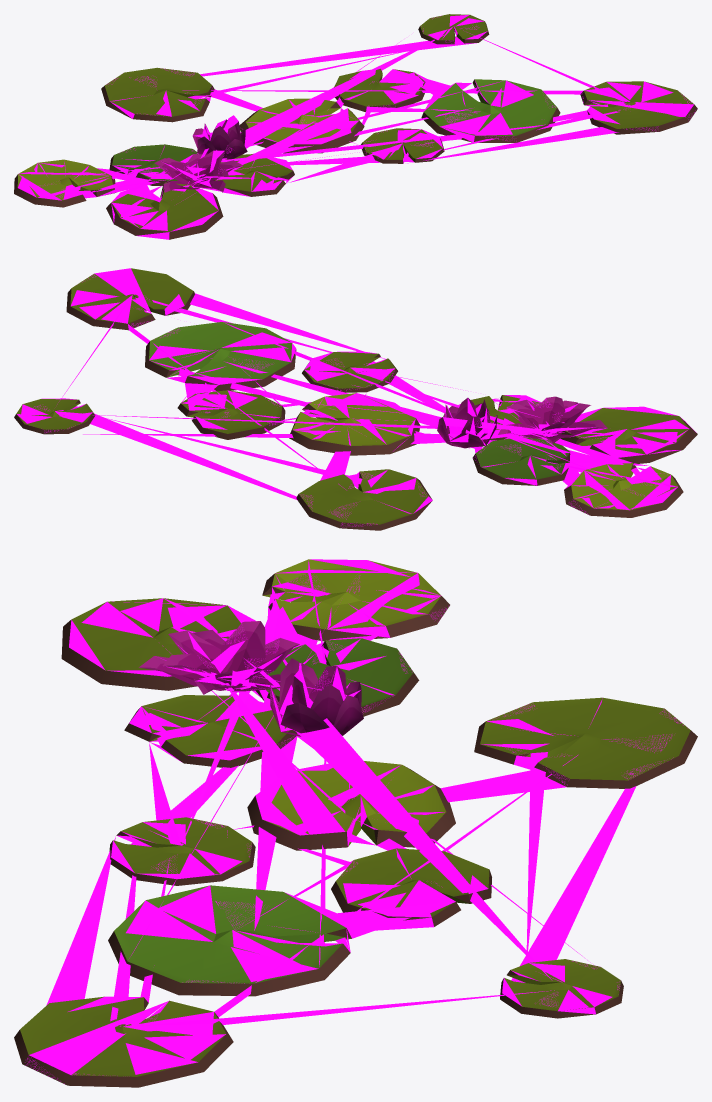
The model's file is SM_Env_Lillies_02.glb.
3 views of the same model, one above another, from view 1: azimuth 30°, elevation 25°; view 2: azimuth 150°, elevation 25°; view 3: azimuth 270°, elevation 25° (orthographic). The views are drawn at different scales.
Visible parts, largest first — view 1: SM_Env_Lillies_02; view 2: SM_Env_Lillies_02; view 3: SM_Env_Lillies_02.
Boxes of the visible parts, x1=… form: SM_Env_Lillies_02: x1=14, y1=14, x2=697, y2=239; SM_Env_Lillies_02: x1=14, y1=268, x2=697, y2=530; SM_Env_Lillies_02: x1=14, y1=559, x2=697, y2=1087.
Size of the model in its own units: 2.7 by 0.1794 by 1.49.
Materials: 2 (1 with a texture image).
